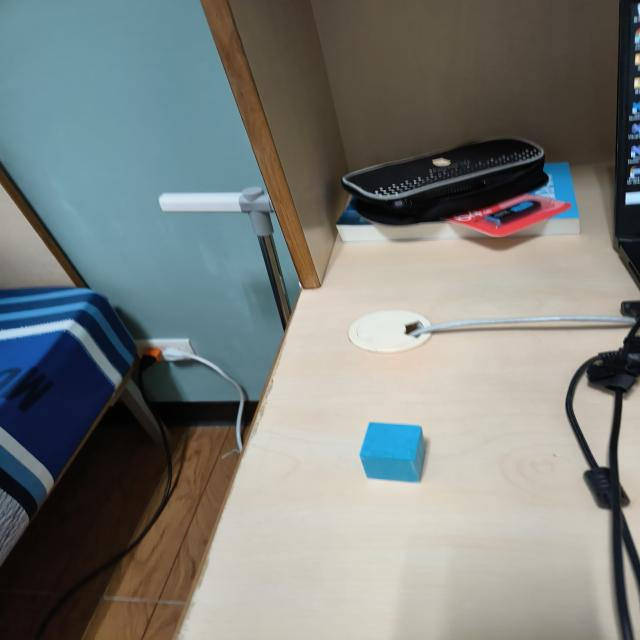blue_block: (359, 422, 428, 485)
